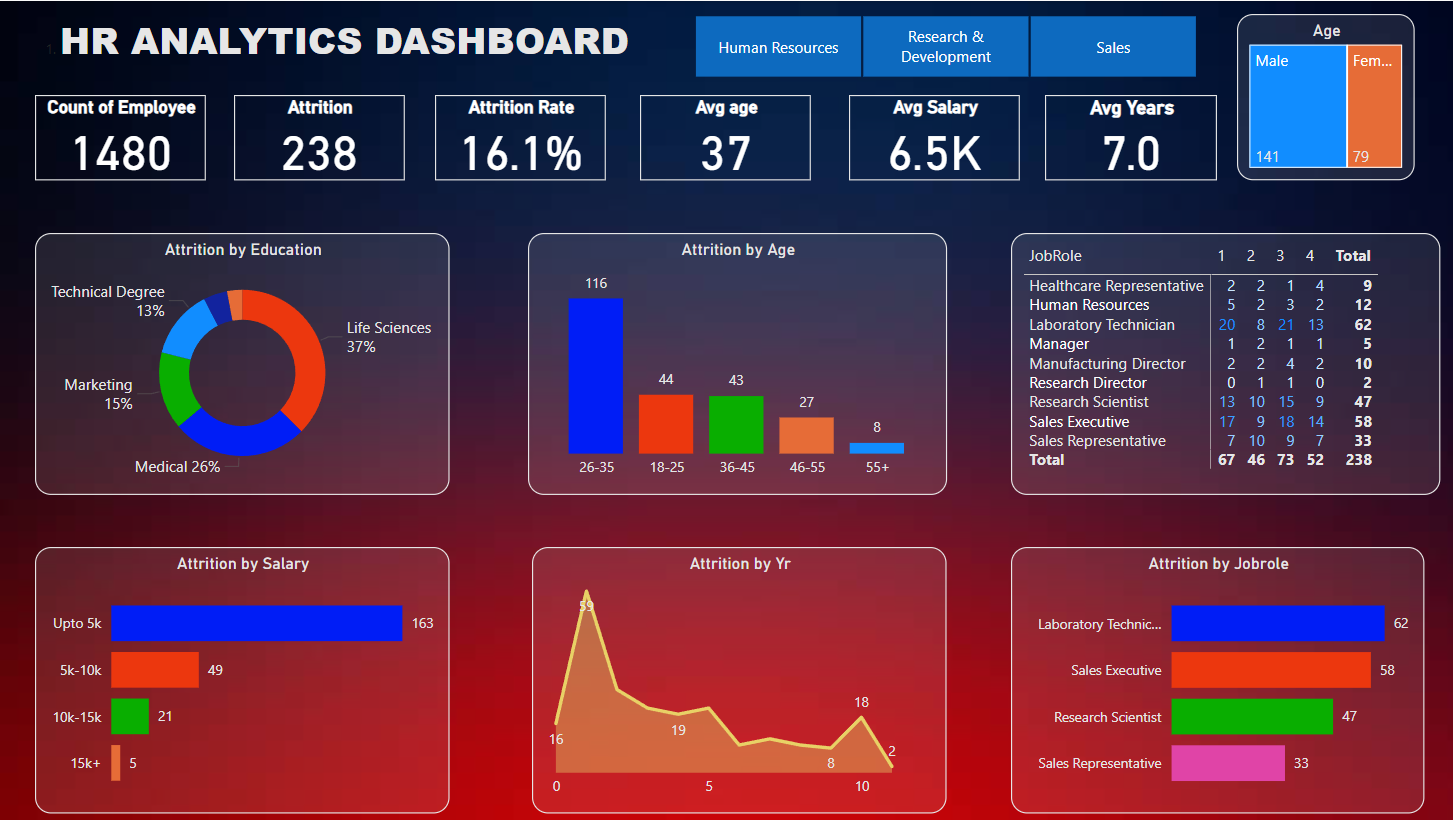

Layout of this report page (visuals, bound fields, positions):
{"tool":"powerbi","page":{"name":"Page 1","canvas":[1280,720],"ordinal":0},"visuals":[{"type":"card","title":"Count of Employee","fields":{"Values":["CountNonNull(HR_Analytics.EmpID)"]},"box":[31.5,82.9,150.4,74.8],"z":0},{"type":"card","title":"Attrition","fields":{"Values":["Sum(HR_Analytics.AttritionCount)"]},"box":[206.3,82.9,149.5,74.8],"z":1000},{"type":"card","title":"Attrition Rate","fields":{"Values":["HR_Analytics.AttriotionRate"]},"box":[383.1,82.7,150.2,74.6],"z":2000},{"type":"card","title":"Avg age ","fields":{"Values":["Avg(HR_Analytics.Age)"]},"box":[563,82.9,150.4,74.8],"z":3000},{"type":"card","title":"Avg Salary ","fields":{"Values":["Avg(HR_Analytics.MonthlyIncome)"]},"box":[746.8,82.7,150.2,74.6],"z":4000},{"type":"card","title":"Avg Years","fields":{"Values":["Avg(HR_Analytics.YearsAtCompany)"]},"box":[918.4,82.7,151.2,74.6],"z":5000},{"type":"donutChart","title":"Attrition by Education","fields":{"Category":["HR_Analytics.EducationField"],"Y":["Sum(HR_Analytics.AttritionCount)"]},"box":[31.5,203.6,363.9,229.7],"z":6000},{"type":"columnChart","title":"Attrition by Age","fields":{"Category":["HR_Analytics.AgeGroup"],"Y":["Sum(HR_Analytics.AttritionCount)"]},"box":[464.8,203.6,367.5,229.7],"z":7000},{"type":"pivotTable","fields":{"Rows":["HR_Analytics.JobRole"],"Columns":["HR_Analytics.JobSatisfaction"],"Values":["Sum(HR_Analytics.AttritionCount)"]},"box":[888.2,203.6,376.5,229.7],"z":8000},{"type":"barChart","title":"Attrition by Salary","fields":{"Category":["HR_Analytics.SalarySlab"],"Y":["Sum(HR_Analytics.AttritionCount)"]},"box":[31.7,479.1,363.7,233.9],"z":9000},{"type":"barChart","title":"Attrition by Jobrole","fields":{"Y":["Sum(HR_Analytics.AttritionCount)"],"Category":["HR_Analytics.JobRole"]},"box":[888.2,479.2,363,234.2],"z":10000},{"type":"areaChart","title":"Attrition by Yr","fields":{"Category":["HR_Analytics.YearsAtCompany"],"Y":["Sum(HR_Analytics.AttritionCount)"]},"box":[468.4,479.2,363.9,234.2],"z":11000},{"type":"treemap","title":"Age","fields":{"Group":["HR_Analytics.Gender"],"Values":["Sum(HR_Analytics.AttritionCount)"]},"box":[1087.2,11.7,155.8,145.9],"z":12000},{"type":"slicer","fields":{"Values":["HR_Analytics.Department"]},"box":[590.9,11.7,479.2,56.7],"z":13000},{"type":"textbox","box":[31.5,8.1,559.4,60.4],"z":14000}]}

Visuals, with their boxes in screenshot pixels (x1, y1, x2, y2), scaled from the page's 1280x720 canvas onto the 1453x820 screenshot:
"Count of Employee" card: (36,94,206,180)
"Attrition" card: (234,94,404,180)
"Attrition Rate" card: (435,94,605,179)
"Avg age " card: (639,94,810,180)
"Avg Salary " card: (848,94,1018,179)
"Avg Years" card: (1043,94,1214,179)
"Attrition by Education" donutChart: (36,232,449,493)
"Attrition by Age" columnChart: (528,232,945,493)
pivotTable - HR_Analytics.JobRole x HR_Analytics.JobSatisfaction: (1008,232,1436,493)
"Attrition by Salary" barChart: (36,546,449,812)
"Attrition by Jobrole" barChart: (1008,546,1420,812)
"Attrition by Yr" areaChart: (532,546,945,812)
"Age" treemap: (1234,13,1411,179)
slicer - HR_Analytics.Department: (671,13,1215,78)
textbox: (36,9,671,78)
